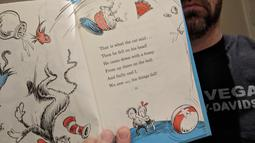text block: (94, 34, 163, 89)
